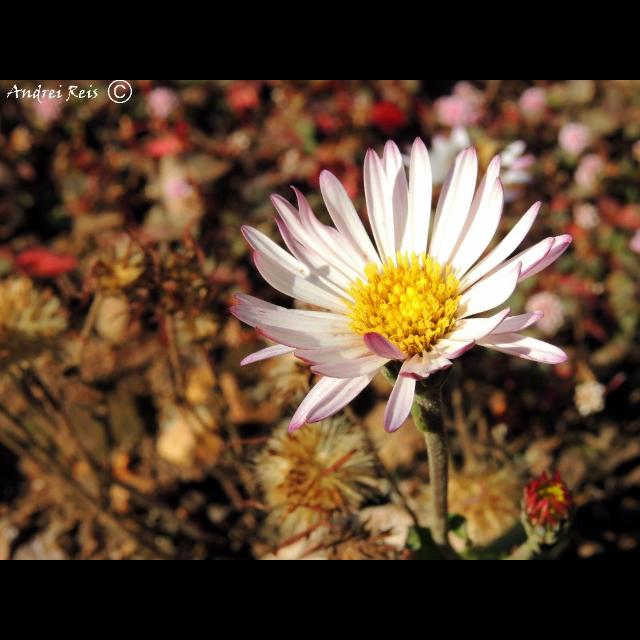Flower: (206, 148, 578, 476)
